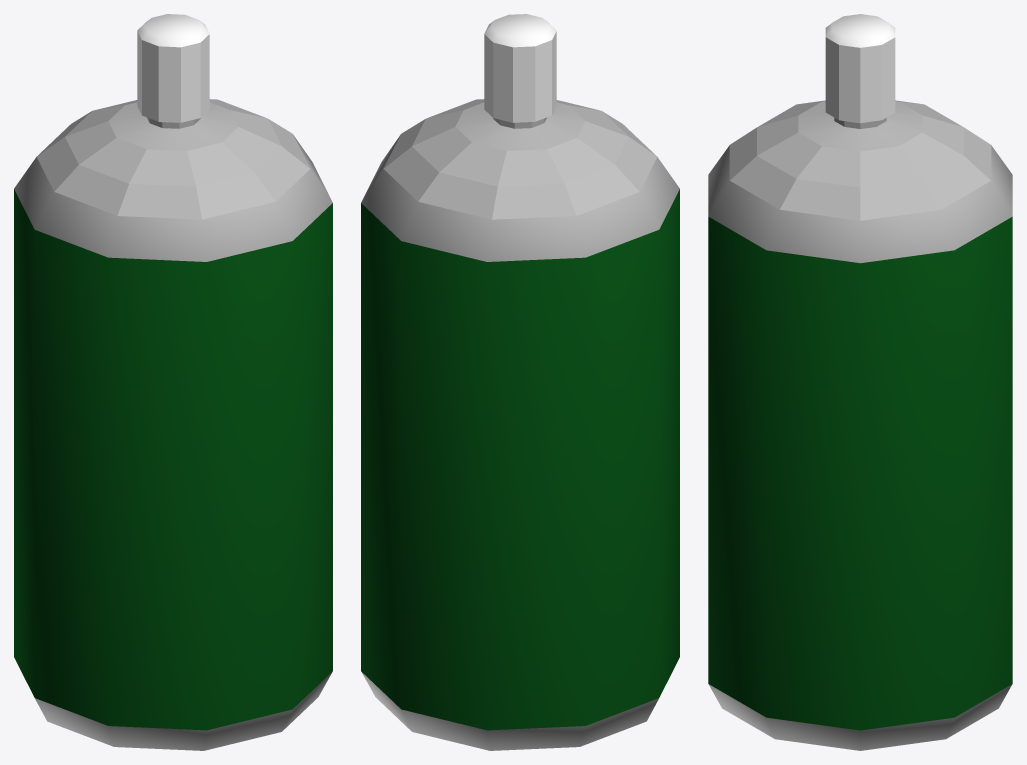
Rendered from Unwrapped_spray.fbx.
The picture shows the model from 3 angles, left to right: view 1: azimuth 30°, elevation 25°; view 2: azimuth 150°, elevation 25°; view 3: azimuth 270°, elevation 25°; orthographic projection.
Parts seen in each view (by area): view 1: Cylinder006; view 2: Cylinder006; view 3: Cylinder006.
Part boxes in pixels (box(x1,y1,x2,y2)): Cylinder006: box(14, 14, 332, 750); Cylinder006: box(361, 14, 679, 750); Cylinder006: box(708, 14, 1012, 750).
Bounding box in the file's own units: 21.62 × 49.43 × 20.56.
